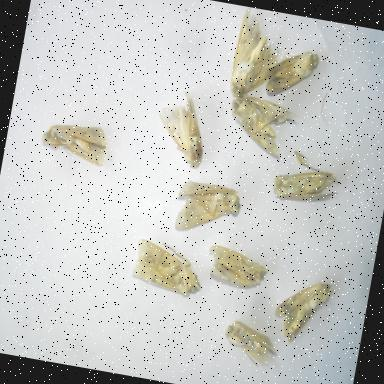abw: (223, 7, 297, 107), (222, 88, 307, 166), (266, 268, 341, 350), (125, 233, 210, 303), (146, 86, 214, 172), (172, 174, 248, 244), (36, 108, 114, 172), (216, 311, 286, 373), (267, 158, 344, 214), (261, 41, 325, 107), (200, 238, 275, 294)
